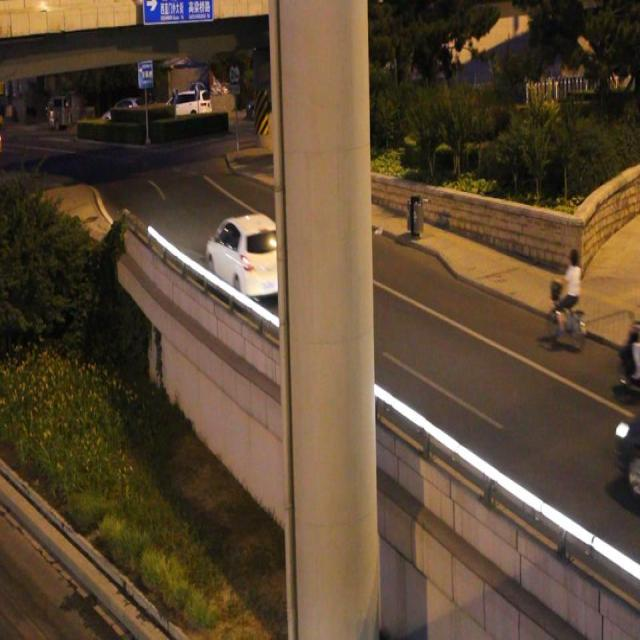car: (206, 212, 289, 302)
